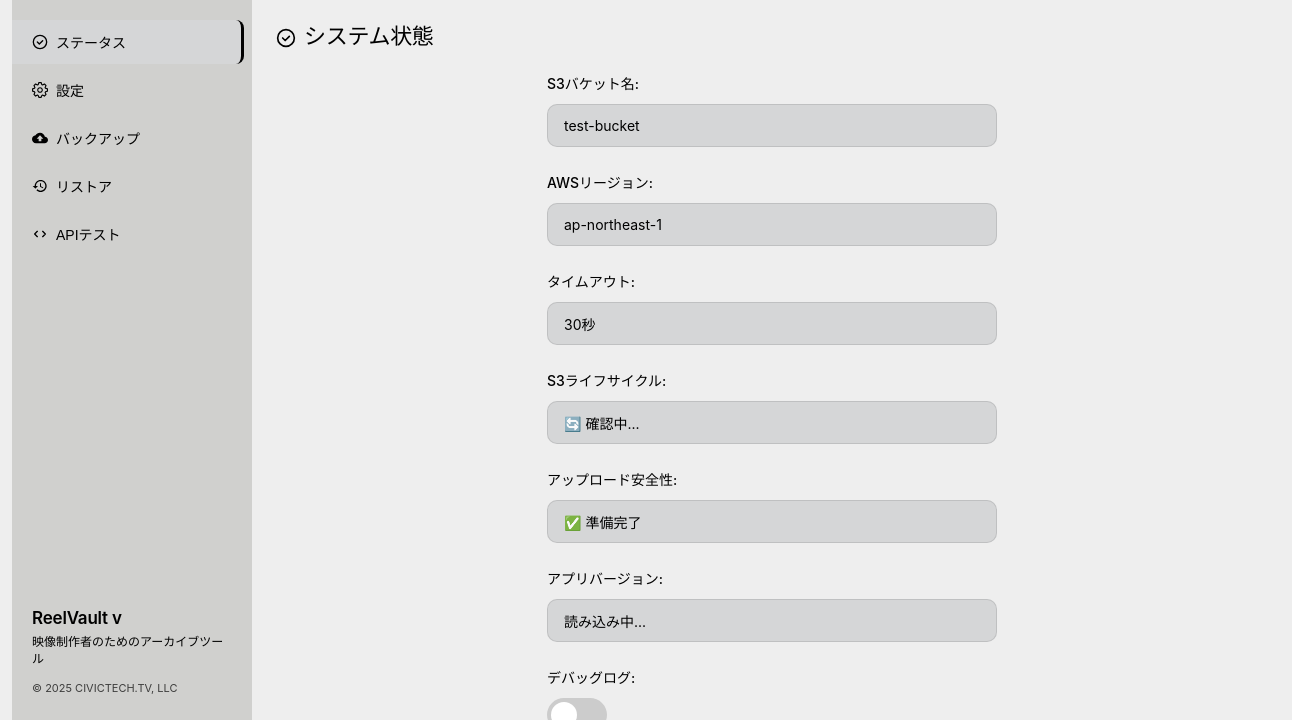
it: ConfigManager › should display restore progress status
This screenshot has width=1292, height=720.
リストアタブに切り替え
Click the button "リストア" at (128, 186), box [12,164,244,208]
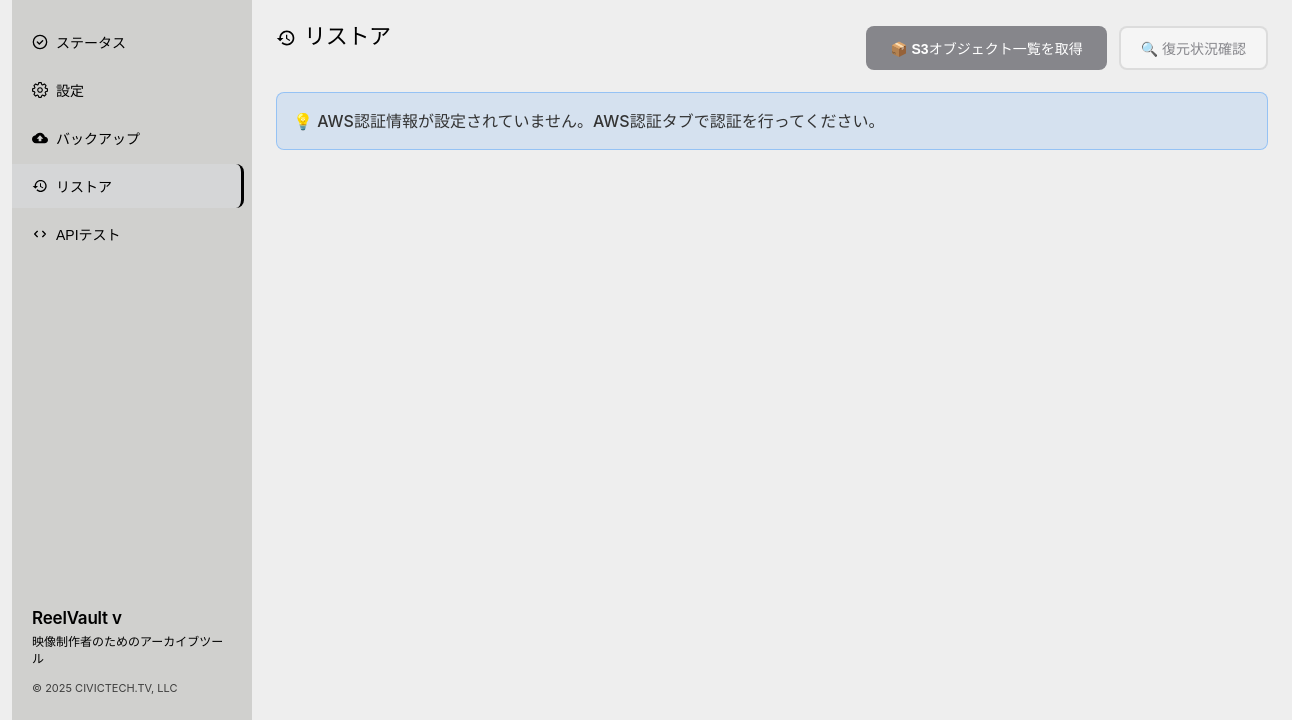
S3オブジェクト一覧取得ボタンをクリック
Click the button "📦 S3オブジェクト一覧を取得" at (986, 48), box [866,26,1107,70]
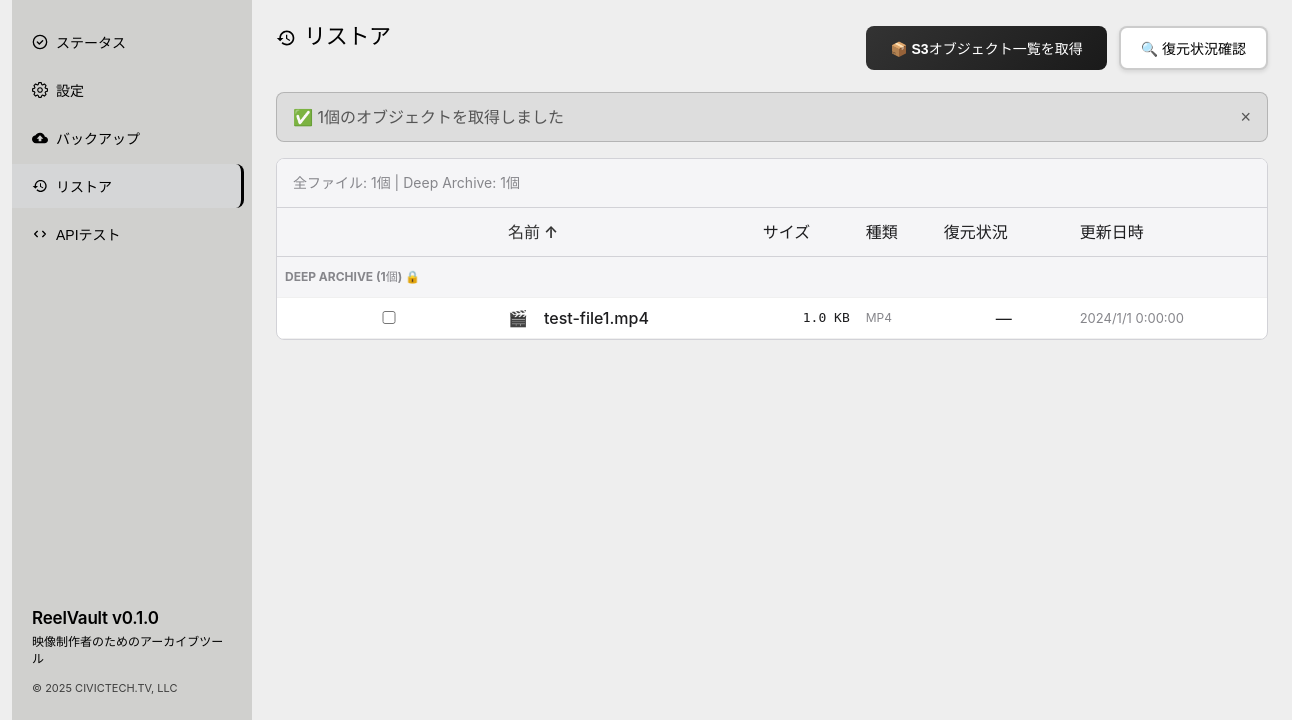
Result: the text "test-file1.mp4" is shown at [544,308,649,328]
Result: the text "—" is shown at [996,308,1012,328]
